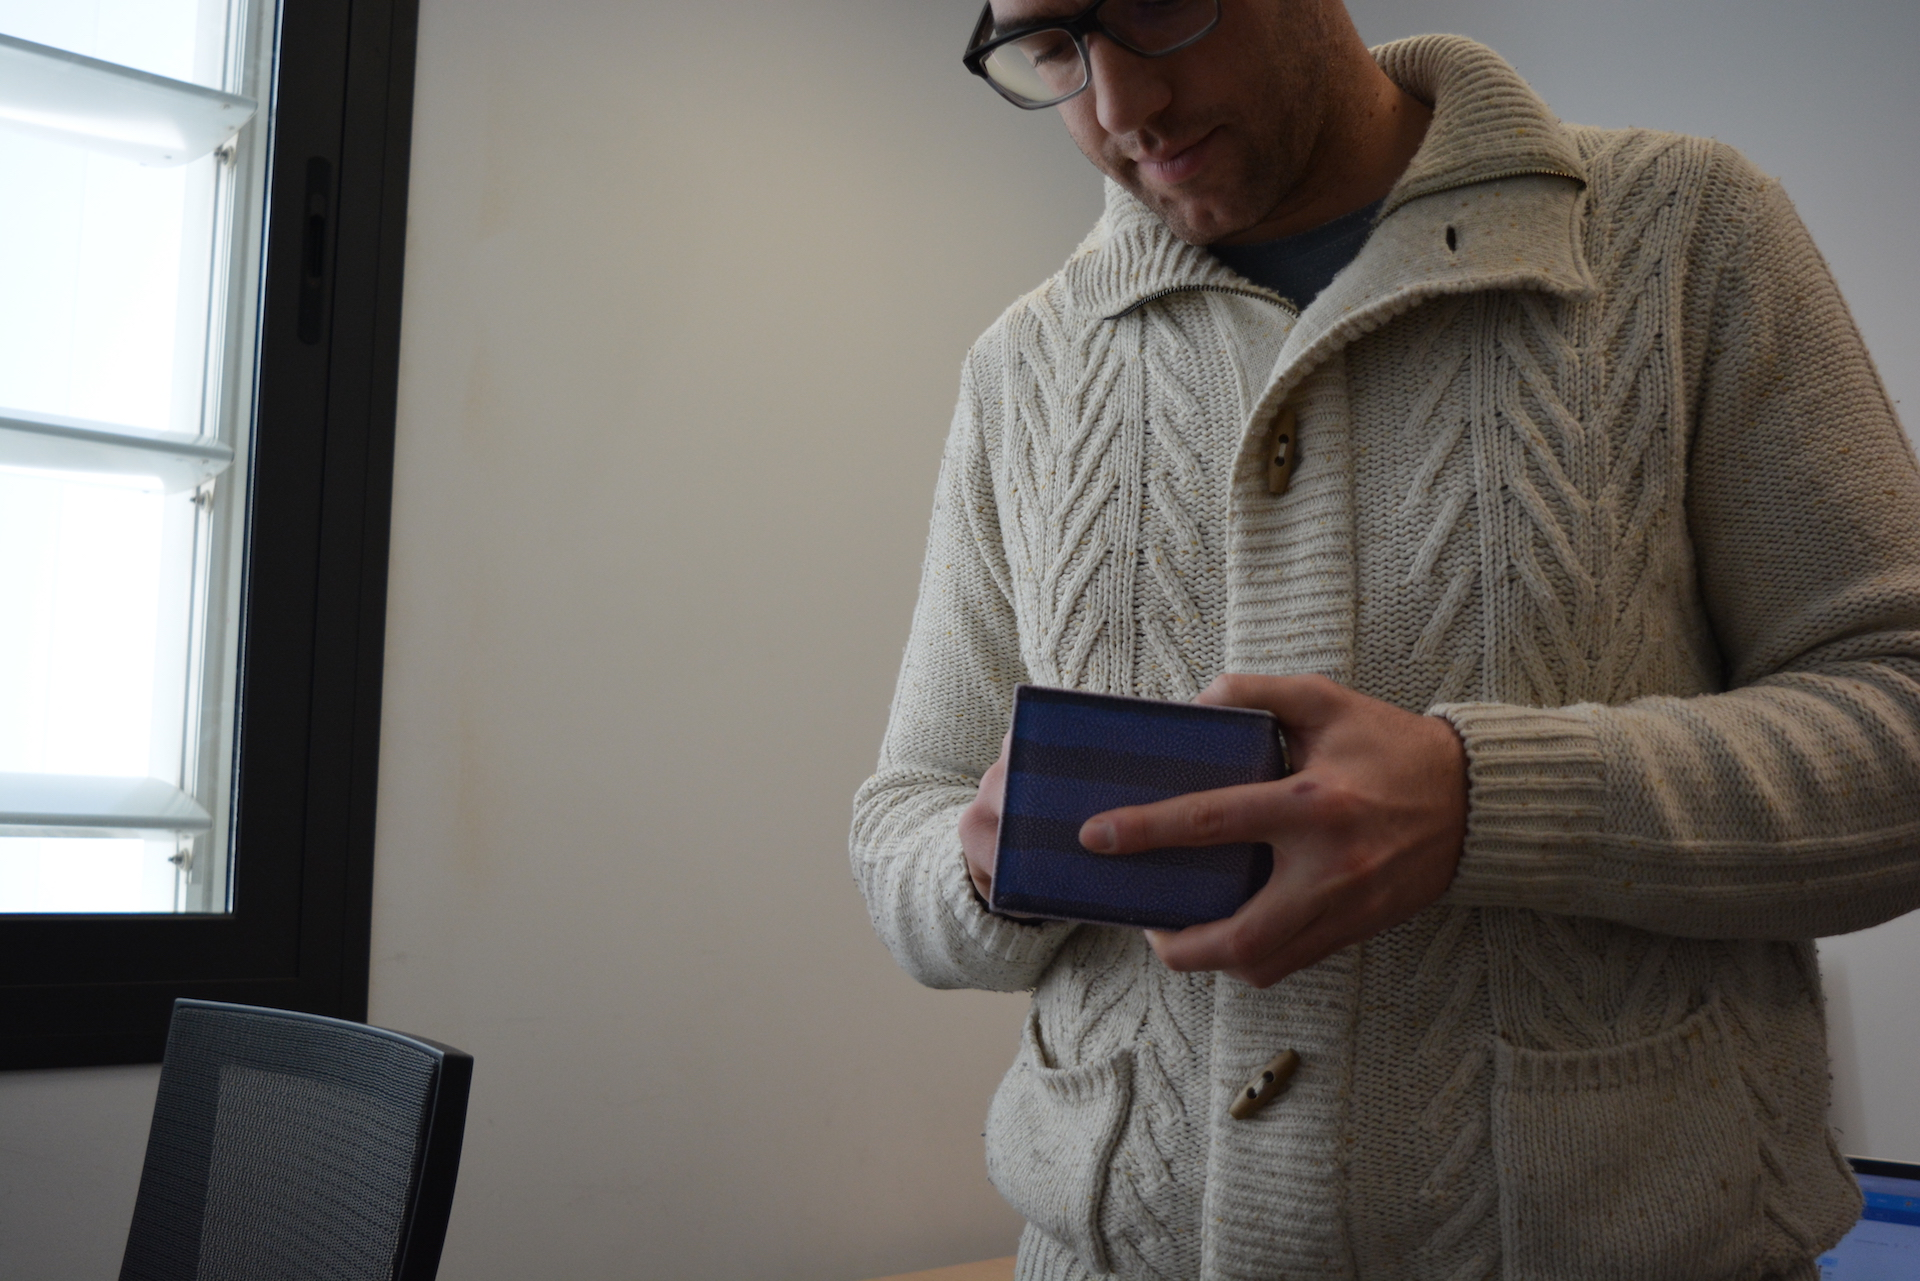monedero: (985, 679, 1285, 936)
